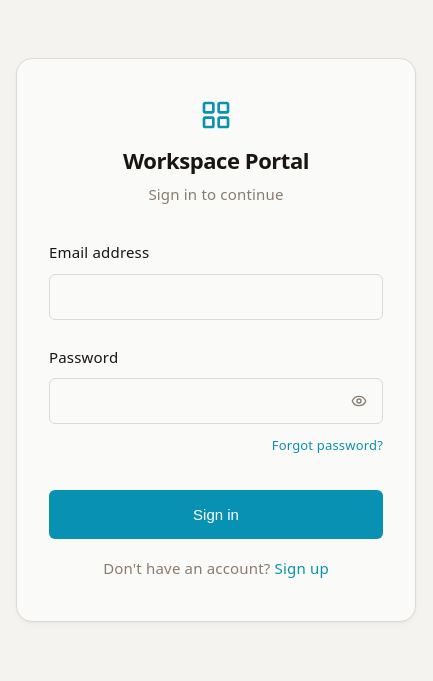
Test: LoginPage User Flows › displays a transient error banner on server rejection (401)
Type "wrong@example.com" into the field labelled "Email address". click: (216, 296)
box: [49,274,383,320]
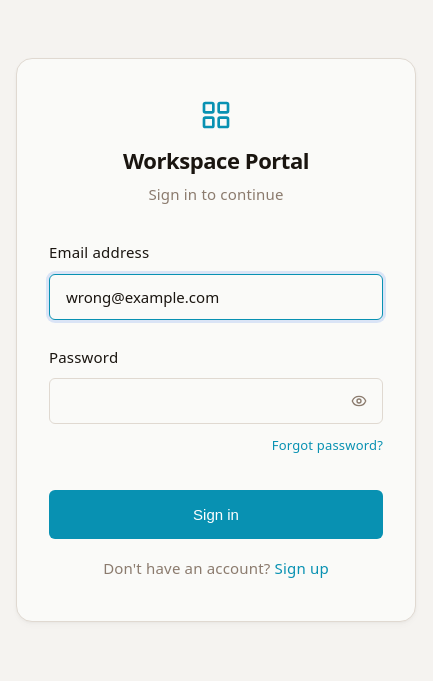
Note: Explicitly target the input, ignoring the toggle button's aria-label
Type "badpassword" into the password field labelled "Password". click: (216, 401)
box: [49,378,383,424]
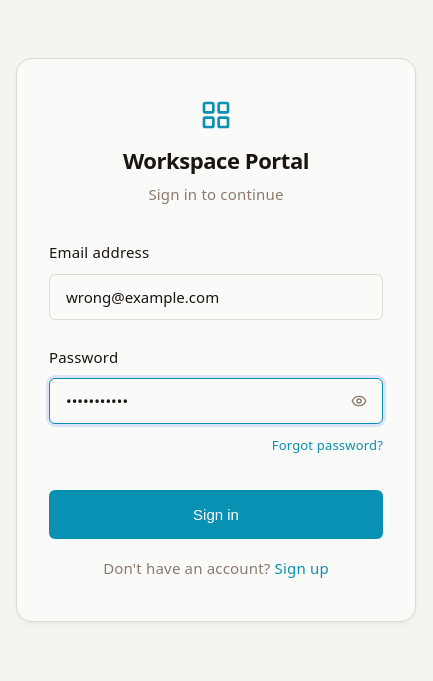
Click the button "Sign in". click: (216, 514)
box: [49,490,383,539]
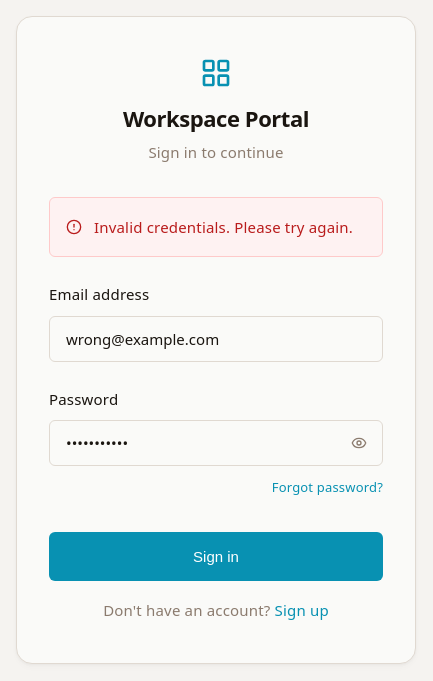
Expected: the message shows "Invalid credentials", [94,217,353,237]
